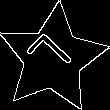L_SE: (24, 30, 81, 87)
